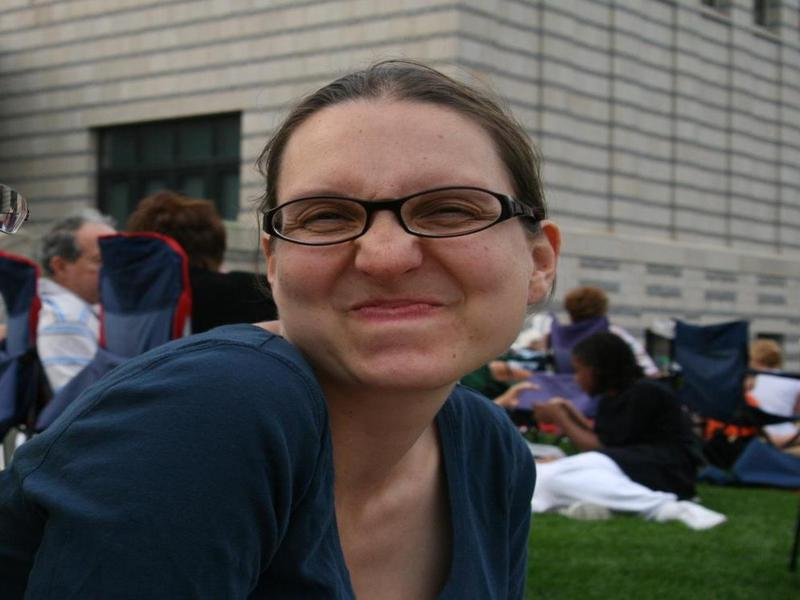person: (1, 54, 562, 600)
